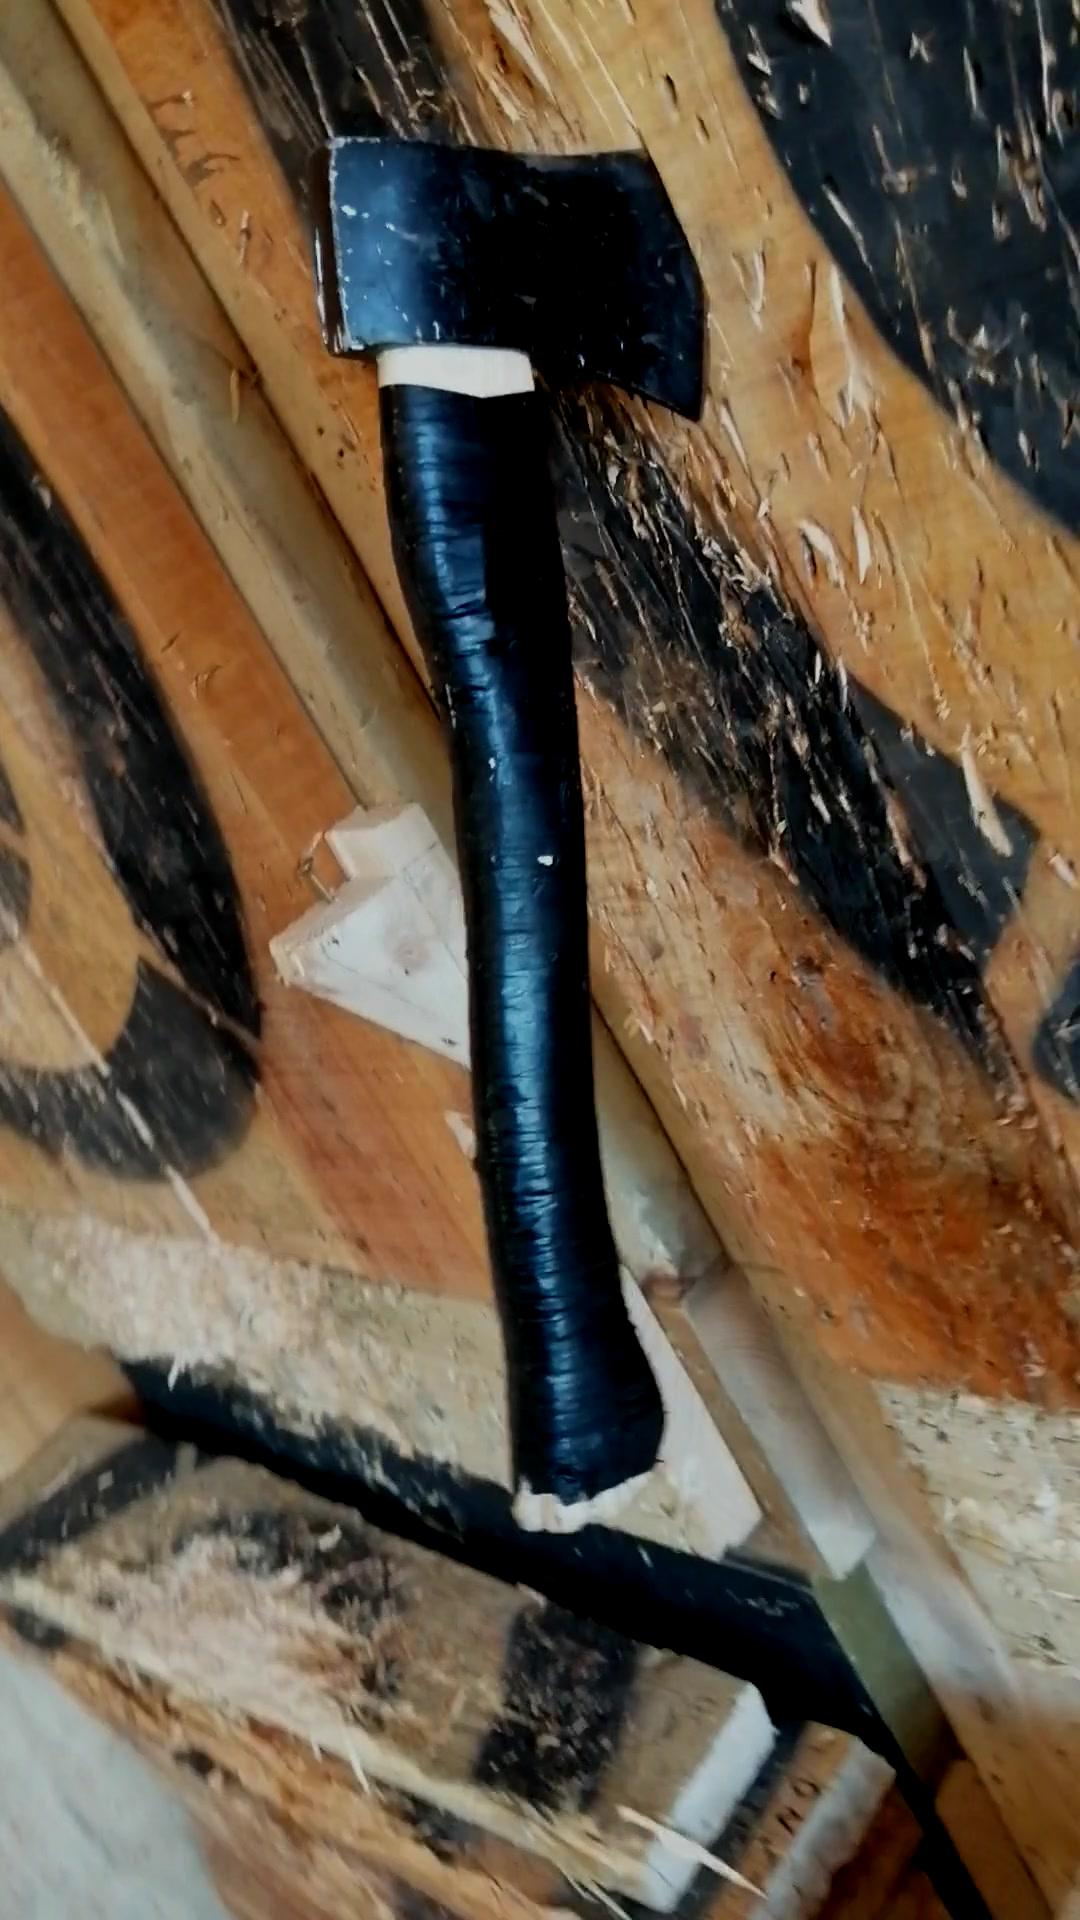Hand Axe: (315, 135, 721, 422)
